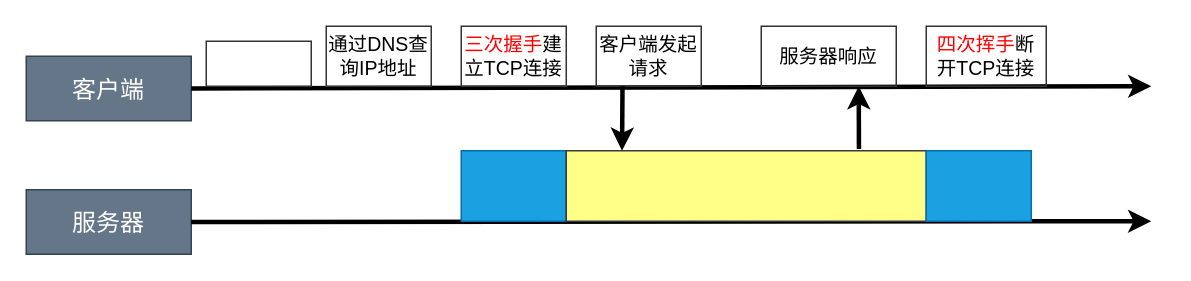
This 1191x281 diagram has some shape labels left out. The centre of each missing label's shape, as x and y in pixels:
"服务器处理数据阶段" goes at point (745, 185).
"构建请求" goes at point (258, 63).
